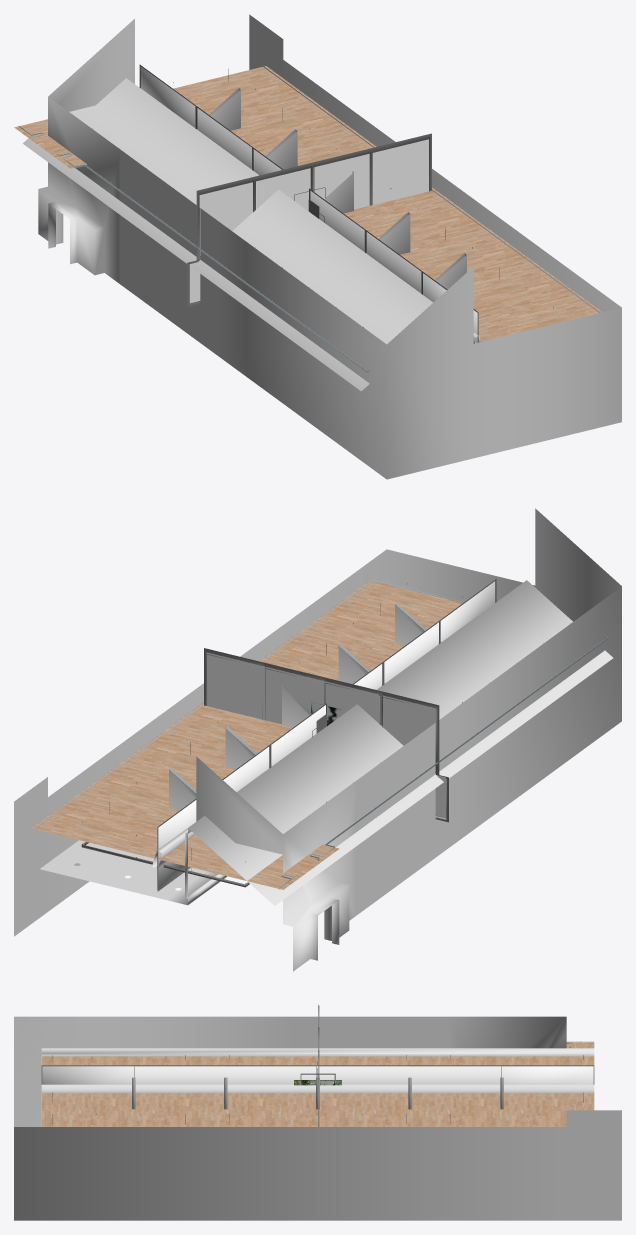
File: museum-optimized.glb
The picture shows the model from 3 angles, top to bottom: view 1: azimuth 30°, elevation 25°; view 2: azimuth 150°, elevation 25°; view 3: azimuth 270°, elevation 25°; orthographic projection. The views are drawn at different scales.
Parts seen in each view (by area): view 1: Walls, ceiling_001, Floor, win_glass_001, glass_002, ceiling_detail_00, window_001, Floor_Molding, window_002; view 2: Walls, ceiling_001, Floor, win_glass_001, glass_002, ceiling_detail_00, window_001, Floor_Molding, window_002, Lamps_Structure; view 3: Walls, Floor, glass_002, ceiling_detail_001, ceiling_001, window_002, ceiling_detail_00.
Part boxes in pixels (x1,y1,x2,y2): Walls: [38, 14, 621, 479]; ceiling_001: [23, 78, 432, 391]; Floor: [14, 66, 602, 343]; win_glass_001: [189, 139, 428, 303]; glass_002: [140, 66, 477, 342]; ceiling_detail_00: [195, 88, 466, 294]; window_001: [187, 133, 431, 307]; Floor_Molding: [19, 65, 600, 372]; window_002: [139, 64, 478, 342]; Walls: [14, 508, 621, 971]; ceiling_001: [40, 580, 613, 905]; Floor: [31, 580, 462, 889]; win_glass_001: [206, 652, 446, 817]; glass_002: [158, 581, 495, 889]; ceiling_detail_00: [169, 602, 441, 810]; window_001: [204, 648, 448, 822]; Floor_Molding: [34, 580, 607, 889]; window_002: [157, 579, 496, 891]; Lamps_Structure: [81, 583, 570, 887]; Walls: [14, 1016, 621, 1220]; Floor: [42, 1041, 594, 1126]; glass_002: [42, 1066, 593, 1084]; ceiling_detail_001: [41, 1084, 594, 1093]; ceiling_001: [41, 1048, 594, 1056]; window_002: [41, 1065, 594, 1084]; ceiling_detail_00: [132, 1077, 503, 1109].
Bounding box in the file's own units: 422829 × 307329 × 1081311.
23 materials, 13 textured.
